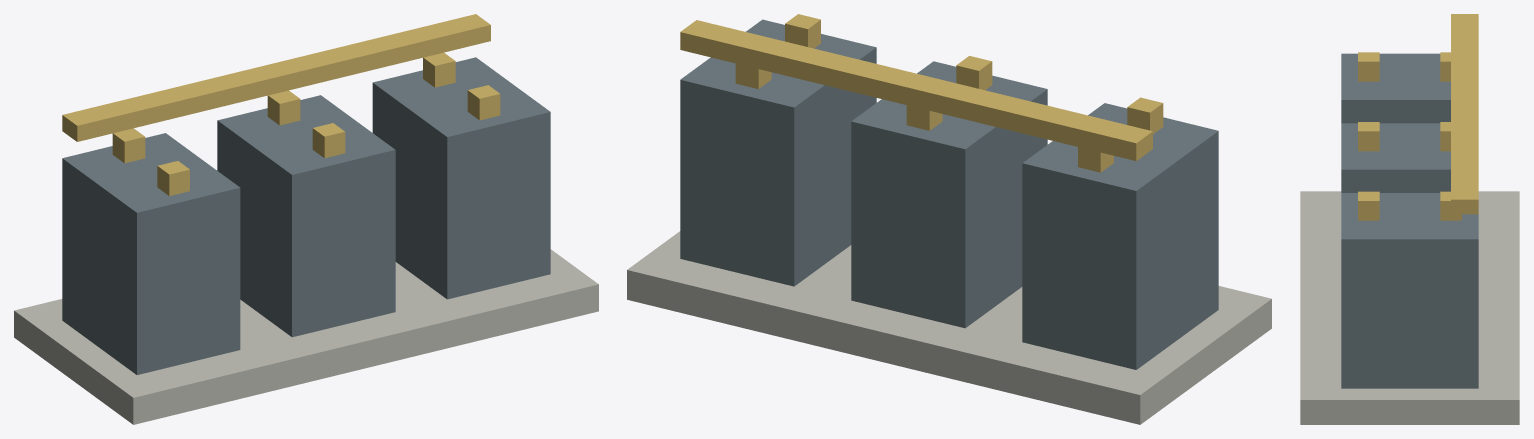
File: zombie-quarantine-streets-battery-charging-bank-44a7547d__19348.glb
3 views of the same model, side by side, from view 1: azimuth 30°, elevation 25°; view 2: azimuth 150°, elevation 25°; view 3: azimuth 270°, elevation 25° (orthographic). The views are drawn at different scales.
Visible parts, largest first — view 1: battery-charging-bank; view 2: battery-charging-bank; view 3: battery-charging-bank.
Part boxes in pixels (bbox=[...]): battery-charging-bank: bbox=[14, 14, 598, 424]; battery-charging-bank: bbox=[627, 14, 1271, 424]; battery-charging-bank: bbox=[1300, 14, 1519, 424].
Size of the model in its own units: 1.8 by 0.86 by 0.7999.
